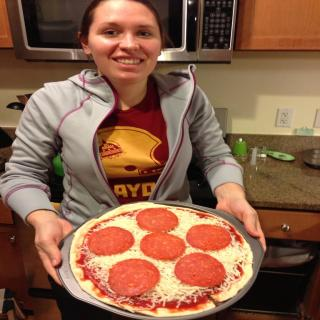Pizza: (72, 205, 250, 312)
